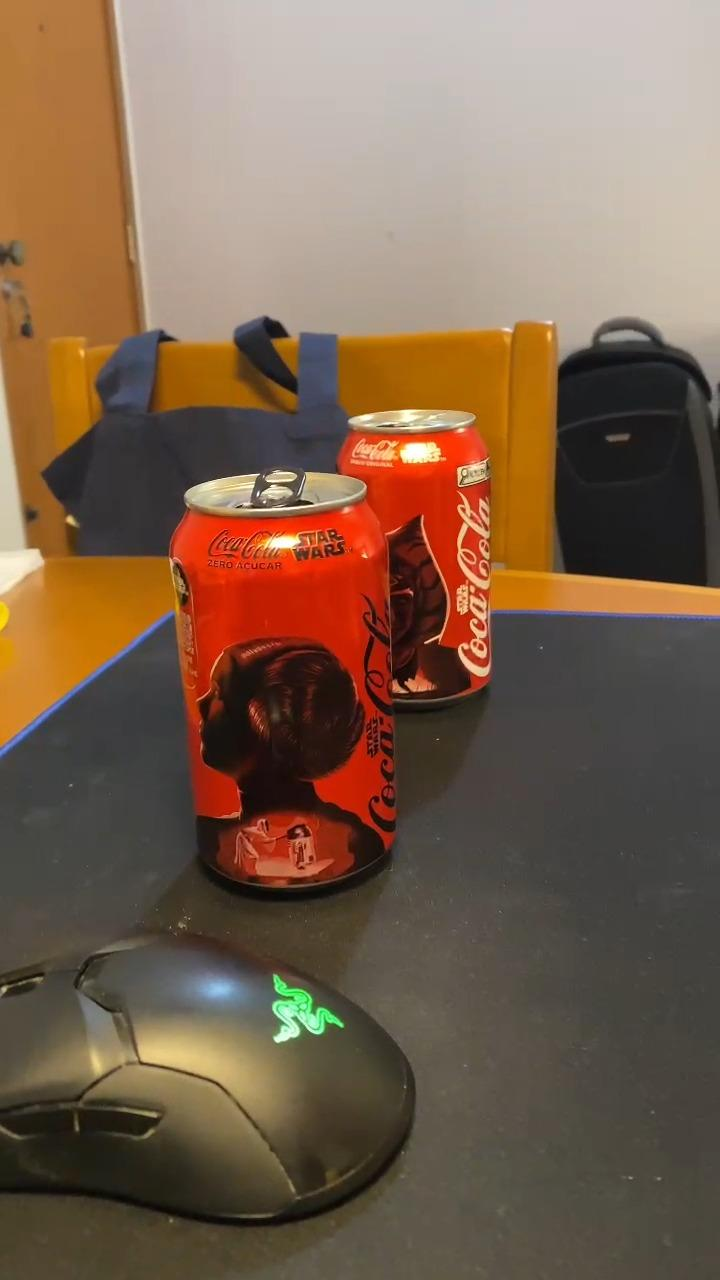coke: (167, 474, 394, 881), (339, 411, 493, 707)
